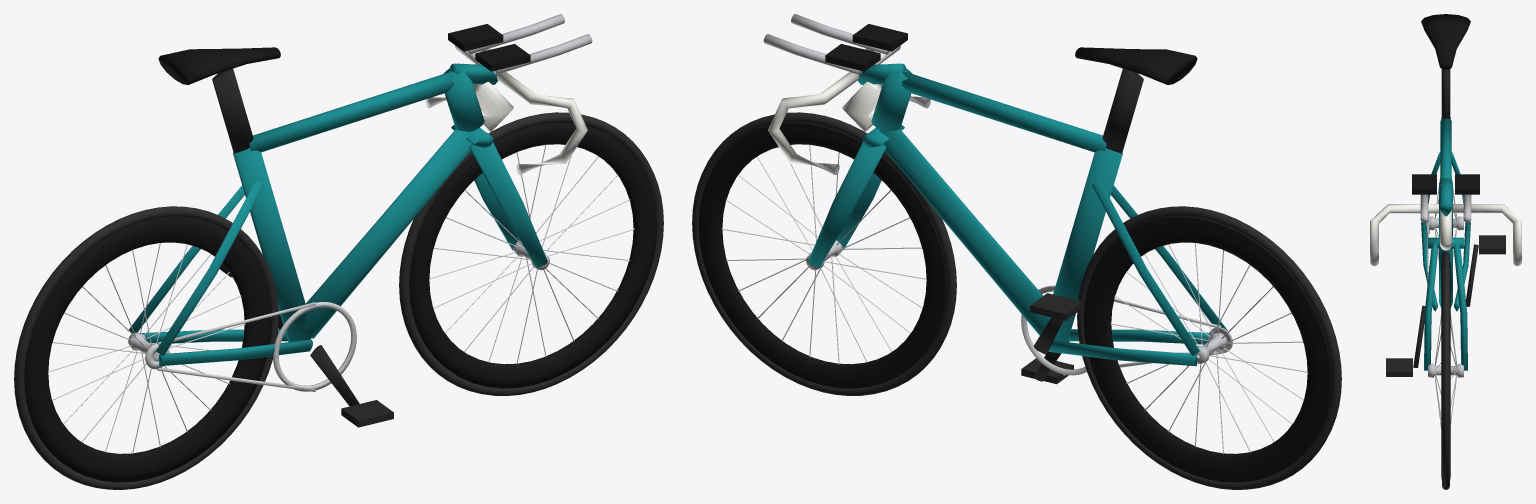
File: bike.glb
The picture shows the model from 3 angles, left to right: view 1: azimuth 30°, elevation 25°; view 2: azimuth 150°, elevation 25°; view 3: azimuth 270°, elevation 25°; orthographic projection. The views are drawn at different scales.
Parts seen in each view (by area): view 1: wheel_rear_rim, wheel_front_rim, wheel_rear_tyre, wheel_front_tyre, down_tube, seat_tube, top_tube, wheel_front_spokes, wheel_rear_spokes, fork_l, saddle, seatstay_l (+15 smaller); view 2: wheel_rear_rim, wheel_front_rim, wheel_rear_tyre, wheel_front_tyre, down_tube, seat_tube, top_tube, wheel_front_spokes, wheel_rear_spokes, fork_r, saddle, seatstay_r (+14 smaller); view 3: wheel_front_tyre, saddle, drop_l, drop_r, fork_l, fork_r, top_tube, pedal_r, wheel_front_spokes, clip_pad_l, clip_pad_r, pedal_l (+15 smaller).
Part boxes in pixels (x1,y1,x2,y2): wheel_rear_rim: (24,216,272,482); wheel_front_rim: (409,122,657,388); wheel_rear_tyre: (14,206,278,489); wheel_front_tyre: (399,112,663,395); down_tube: (301,129,476,338); seat_tube: (233,148,311,341); top_tube: (249,71,453,152); wheel_front_spokes: (429,145,634,364); wheel_rear_spokes: (48,243,245,454); fork_l: (469,133,547,267); saddle: (158,47,280,84); seatstay_l: (156,180,263,355); wheel_rear_rim: (1083,216,1331,482); wheel_front_rim: (698,122,946,388); wheel_rear_tyre: (1077,206,1341,489); wheel_front_tyre: (692,112,956,395); down_tube: (879,129,1049,335); seat_tube: (1049,148,1122,341); top_tube: (902,71,1106,152); wheel_front_spokes: (721,144,926,364); wheel_rear_spokes: (1110,243,1307,454); fork_r: (808,133,886,267); saddle: (1075,47,1197,84); seatstay_r: (1092,180,1199,355); wheel_front_tyre: (1442,251,1449,489); saddle: (1421,14,1470,69); drop_l: (1370,204,1438,265); drop_r: (1453,204,1521,265); fork_l: (1424,243,1438,370); fork_r: (1453,243,1467,370); top_tube: (1440,118,1451,179); pedal_r: (1479,235,1505,254); wheel_front_spokes: (1435,312,1456,428); clip_pad_l: (1412,174,1436,194); clip_pad_r: (1455,174,1479,194); pedal_l: (1386,358,1412,376).
Size of the model in its own units: 1.64 by 1.01 by 0.4248.
